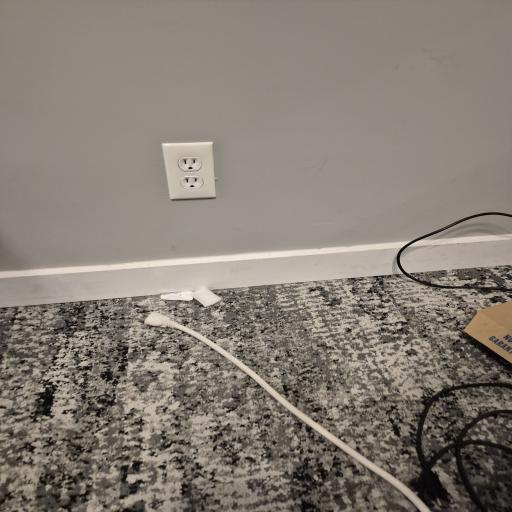outlet: (160, 146, 215, 198)
